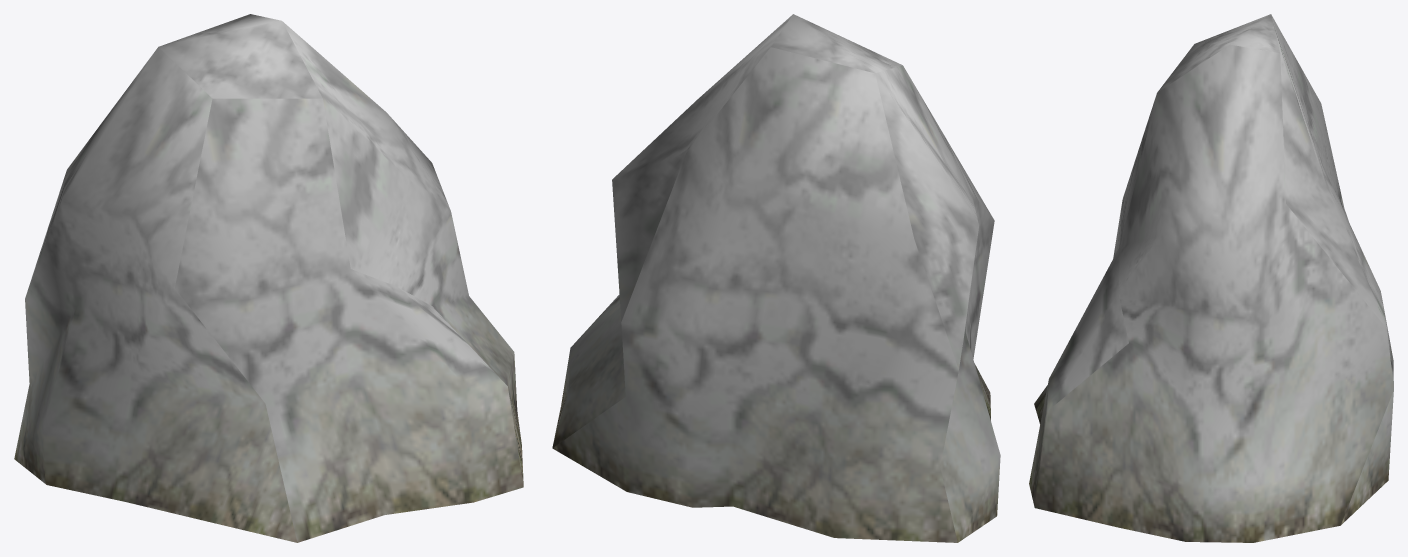
Rendered from general_obj_bigstone07.fbx.
3 views of the same model, side by side, from view 1: azimuth 30°, elevation 25°; view 2: azimuth 150°, elevation 25°; view 3: azimuth 270°, elevation 25° (orthographic). The views are drawn at different scales.
Visible parts, largest first — view 1: Sphere01fs; view 2: Sphere01fs; view 3: Sphere01fs.
Part boxes in pixels (x1,y1,x2,y2): Sphere01fs: (14,14,523,542); Sphere01fs: (552,14,1000,542); Sphere01fs: (1029,14,1393,542).
Bounding box in the file's own units: 12.78 × 11.95 × 9.86.
